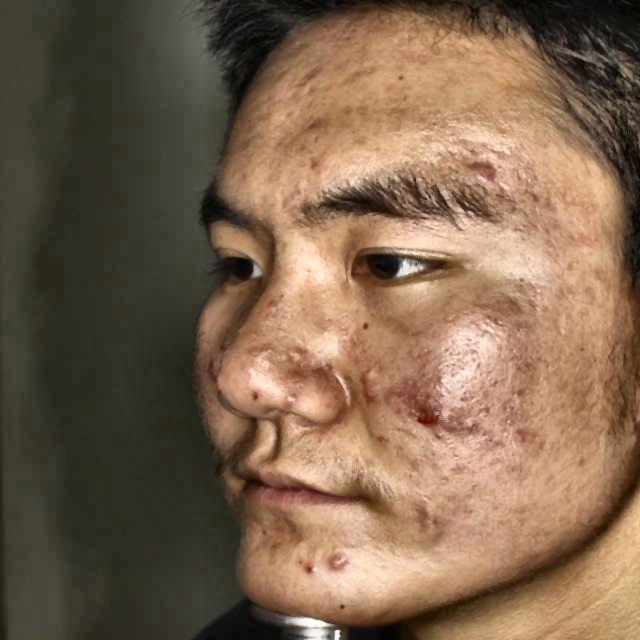pustule: (467, 153, 505, 190), (322, 552, 355, 584), (289, 340, 319, 371), (458, 410, 488, 440), (294, 66, 320, 92), (256, 295, 279, 320), (298, 556, 319, 581), (252, 344, 274, 367)
